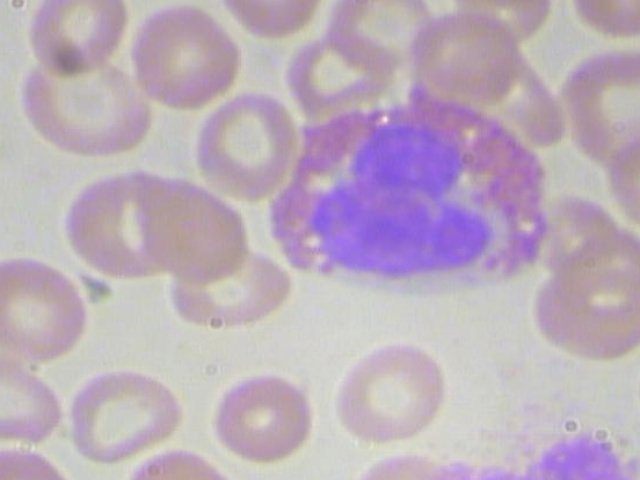RBC: (177, 85, 314, 209), (15, 53, 158, 157), (124, 0, 252, 112), (323, 338, 453, 443), (199, 356, 329, 461), (59, 362, 188, 467), (0, 250, 103, 371), (141, 173, 252, 282), (4, 0, 140, 80), (599, 115, 640, 223), (632, 325, 640, 447)
WBC: (259, 98, 564, 290)
